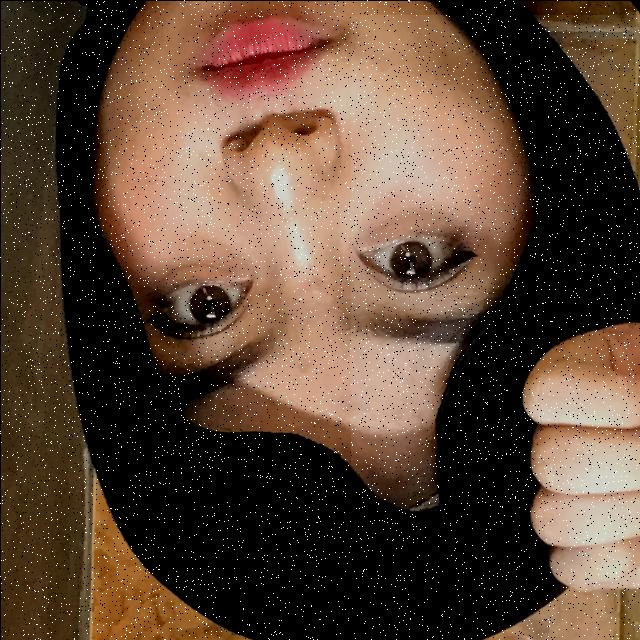sedih: (350, 14, 640, 640)
